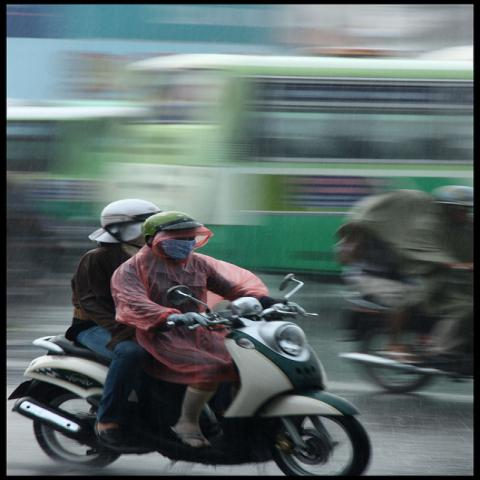bus: (99, 51, 479, 276)
motorcycle: (8, 275, 370, 474), (329, 289, 457, 395)
